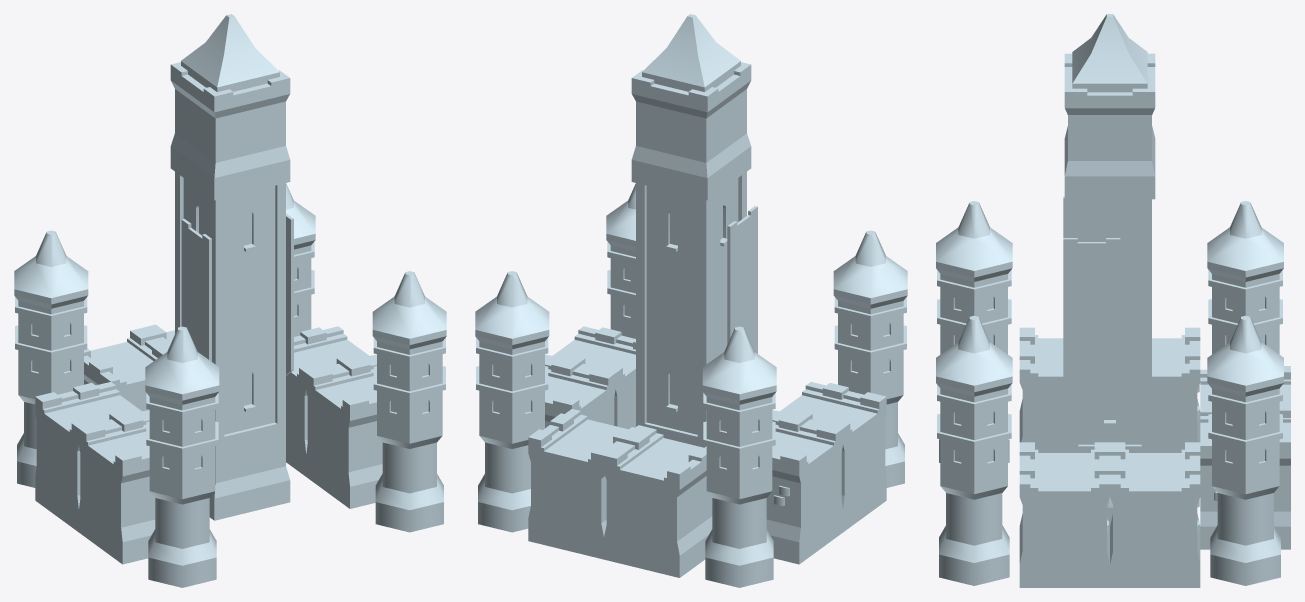
Rendered from palais-givre.glb.
3 renders of one model, left to right at view 1: azimuth 30°, elevation 25°; view 2: azimuth 150°, elevation 25°; view 3: azimuth 270°, elevation 25°, orthographic. The views are drawn at different scales.
Parts seen in each view (by area): view 1: tower-square-base; view 2: tower-square-base; view 3: tower-square-base.
Part boxes in pixels (x1,y1,x2,y2): tower-square-base: (14,14,446,587); tower-square-base: (475,14,907,587); tower-square-base: (936,14,1290,587).
Bounding box in the file's own units: 32 × 48.4 × 31.38.
